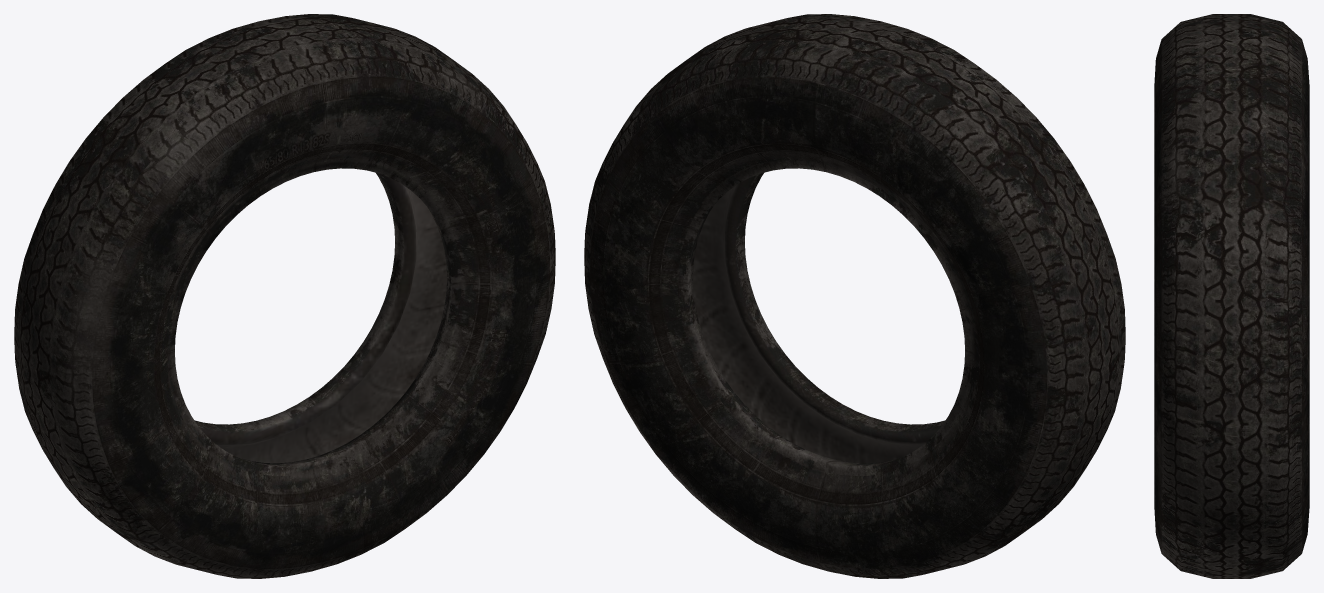
The model's file is real_tyre.glb.
The picture shows the model from 3 angles, left to right: view 1: azimuth 30°, elevation 25°; view 2: azimuth 150°, elevation 25°; view 3: azimuth 270°, elevation 25°; orthographic projection. The views are drawn at different scales.
Visible parts, largest first — view 1: real_tyre; view 2: real_tyre; view 3: real_tyre.
Part boxes in pixels (box(x1,y1,x2,y2)): real_tyre: box(14, 14, 555, 578); real_tyre: box(584, 14, 1125, 578); real_tyre: box(1154, 14, 1309, 578).
Size of the model in its own units: 0.6 by 0.6 by 0.165.
1 material, 1 textured.
